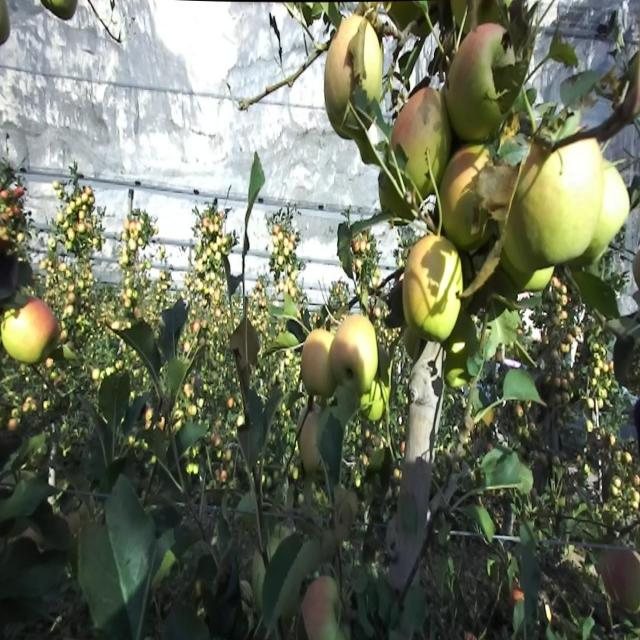apple: (390, 84, 456, 206), (444, 20, 506, 148), (404, 227, 468, 341), (328, 13, 384, 107), (392, 84, 448, 178), (440, 156, 491, 256), (336, 312, 380, 396), (324, 20, 364, 107), (502, 218, 547, 293), (596, 163, 631, 247), (16, 298, 54, 366), (300, 333, 336, 402), (480, 163, 515, 226), (608, 547, 640, 613), (304, 575, 335, 638), (300, 412, 323, 476), (472, 250, 499, 297), (360, 383, 385, 423), (628, 56, 640, 126), (404, 326, 426, 363), (508, 582, 527, 613), (0, 6, 12, 46), (48, 6, 76, 23), (632, 248, 640, 290)
